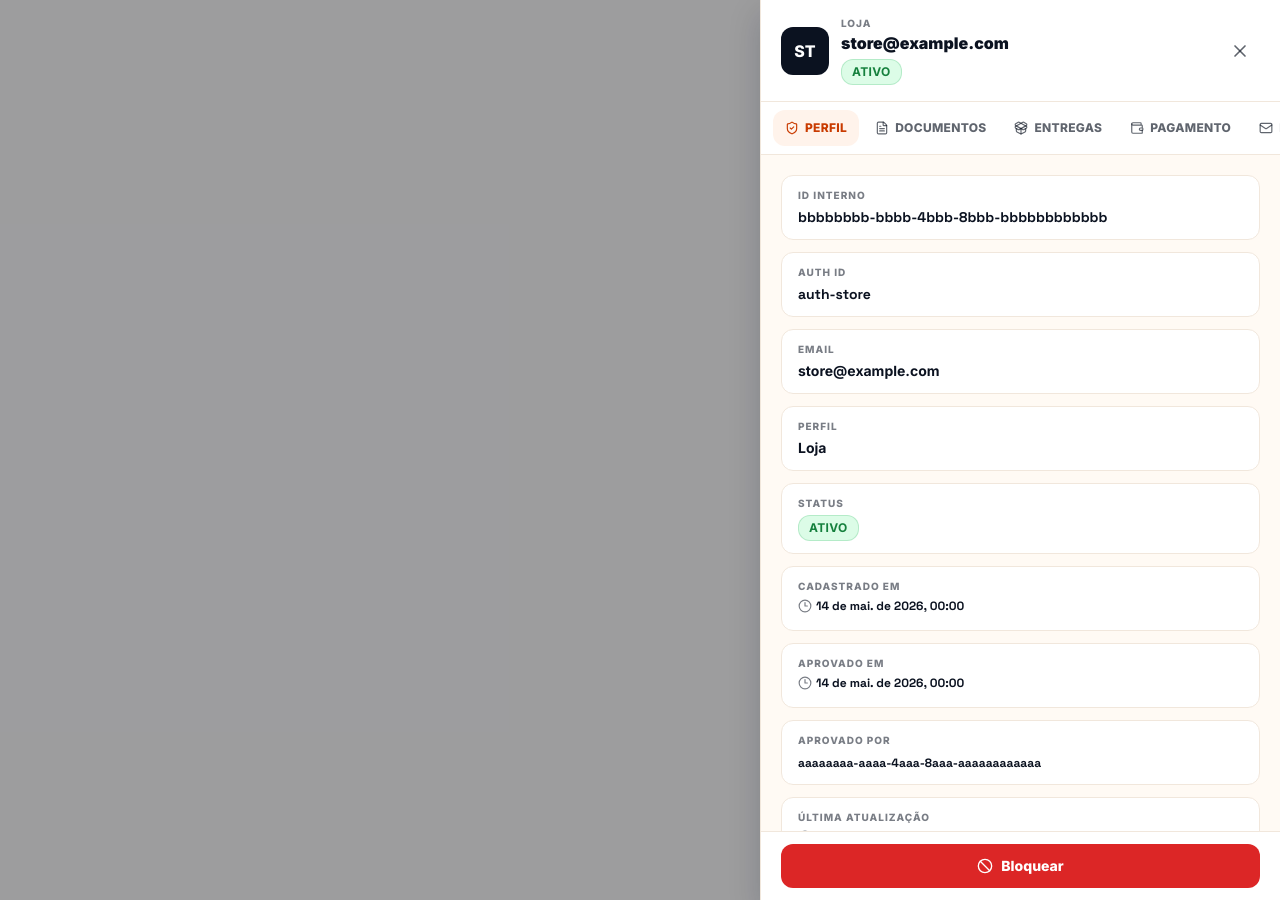
Test: UserDetailDrawer payments tab › loads user payments lazily and keeps forbidden fields out of the payments section
Click the button "Pagamento".
click(1181, 128)  # box [1118,110,1243,146]
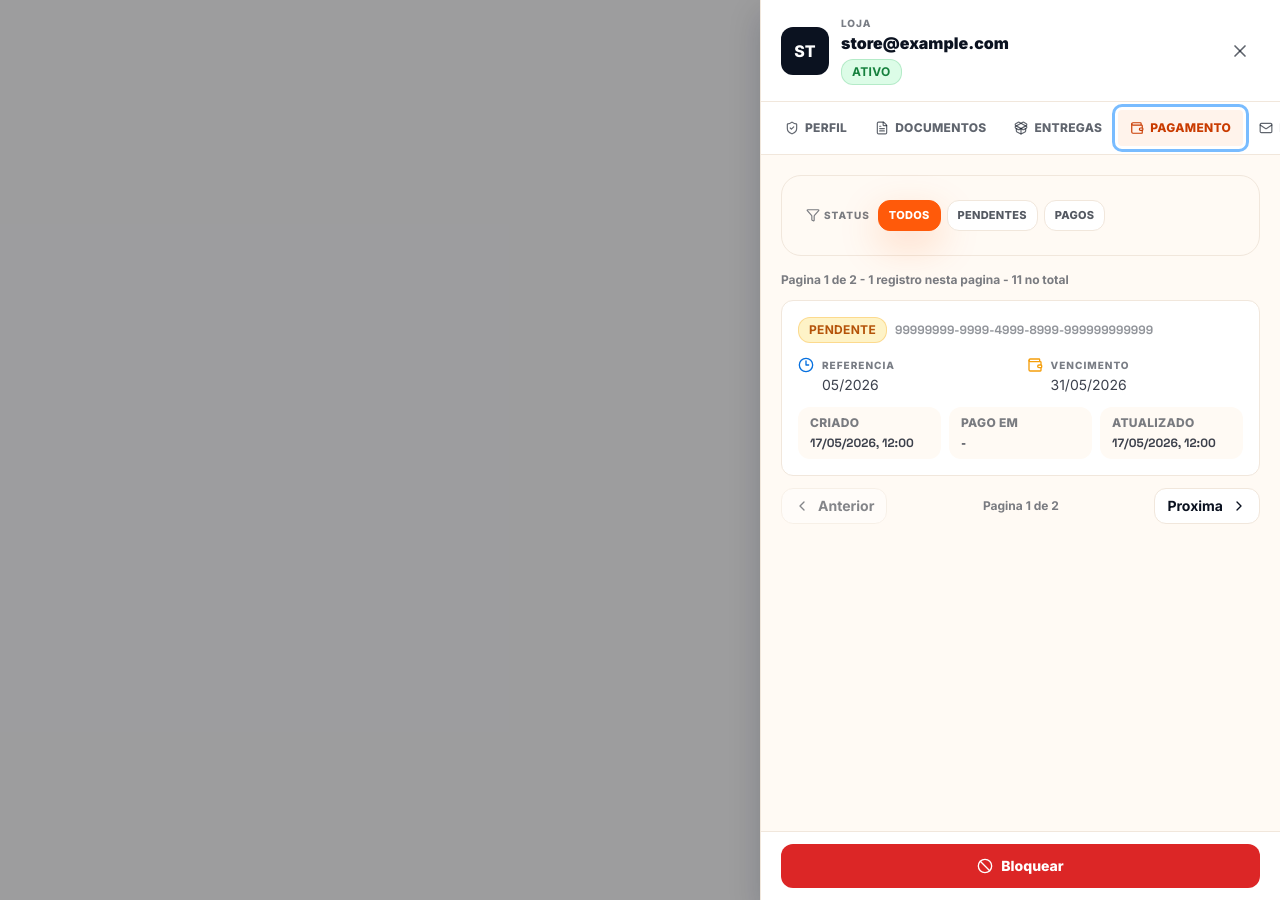
Now the text "99999999-9999-4999-8999-999999999999" is shown, box [895,322,1153,338]
Now the text "05/2026" is shown, box [822,376,879,392]
Now the text "31/05/2026" is shown, box [1050,376,1127,392]
